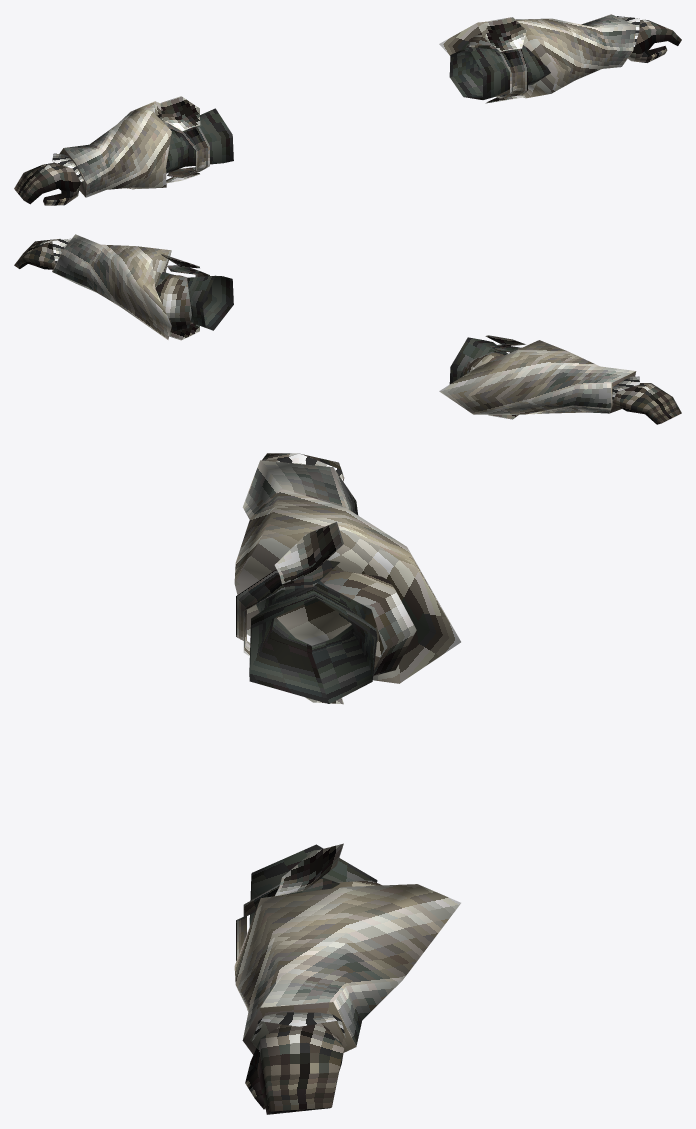
File: m_arm330.glb
The picture shows the model from 3 angles, top to bottom: view 1: azimuth 30°, elevation 25°; view 2: azimuth 150°, elevation 25°; view 3: azimuth 270°, elevation 25°; orthographic projection. The views are drawn at different scales.
Size of the model in its own units: 179 by 20.81 by 26.68.
Materials: 1 (1 with a texture image).
